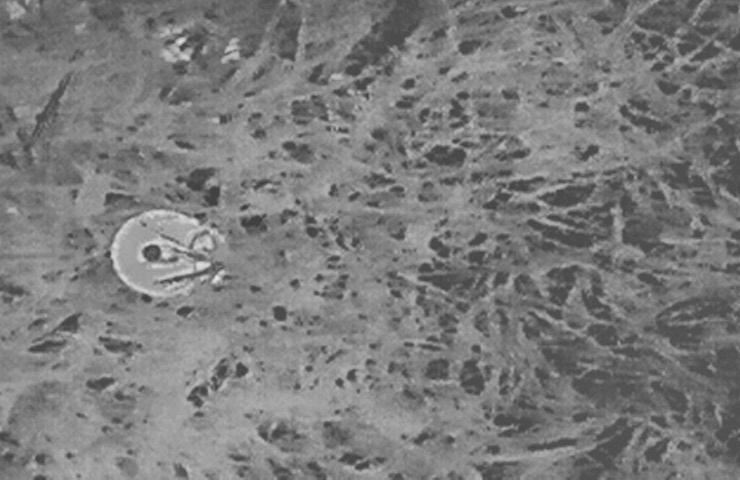landmines: (108, 207, 233, 307)
